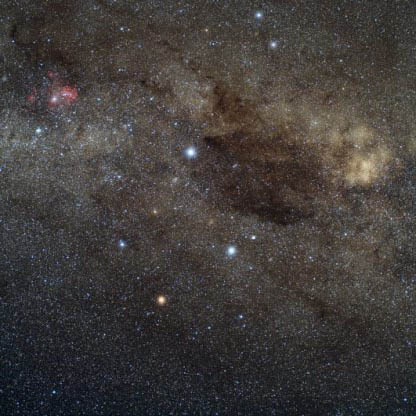Southern Cross: (216, 238, 246, 266), (147, 288, 172, 314), (184, 141, 203, 164), (116, 230, 131, 256)
